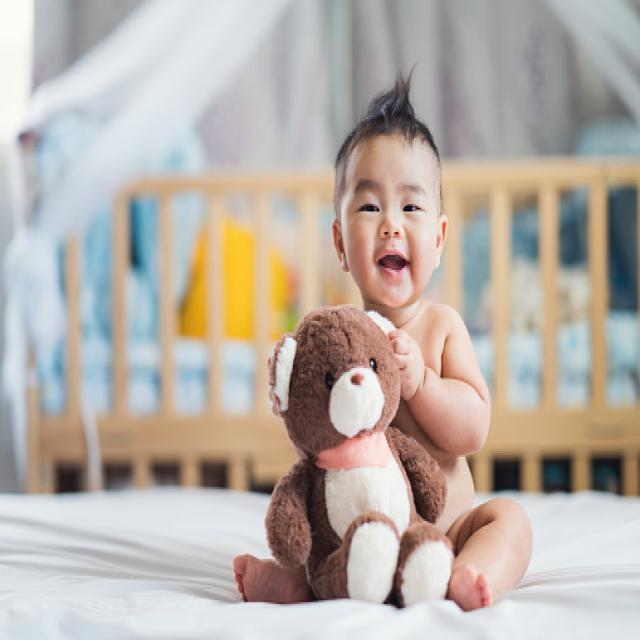non-dog: (234, 66, 534, 612), (263, 304, 454, 608)
